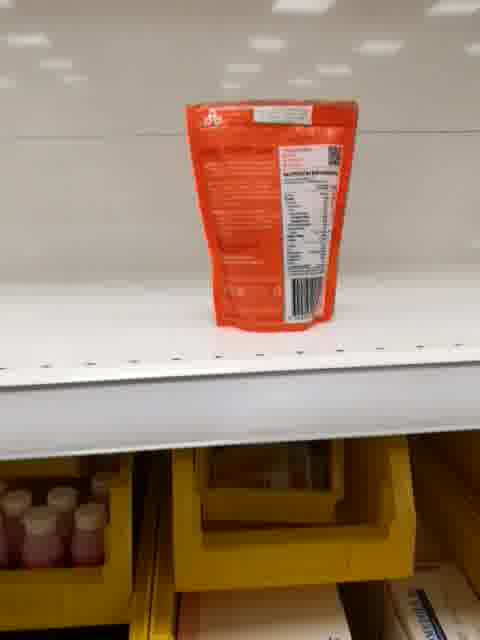whitechia: (183, 91, 360, 333)
